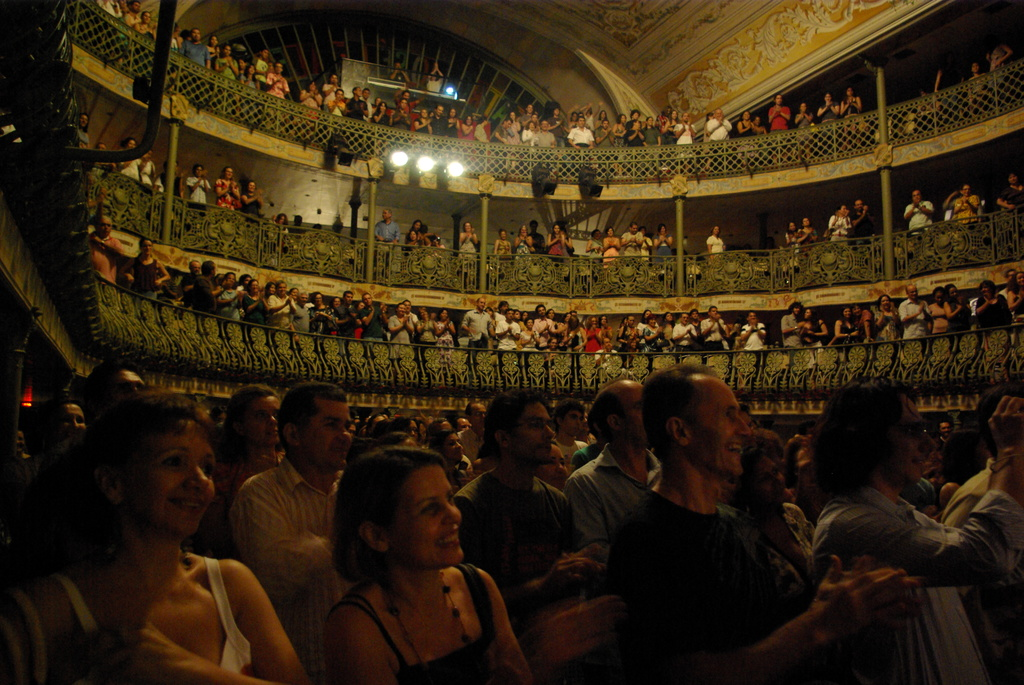person: (562, 376, 660, 554)
